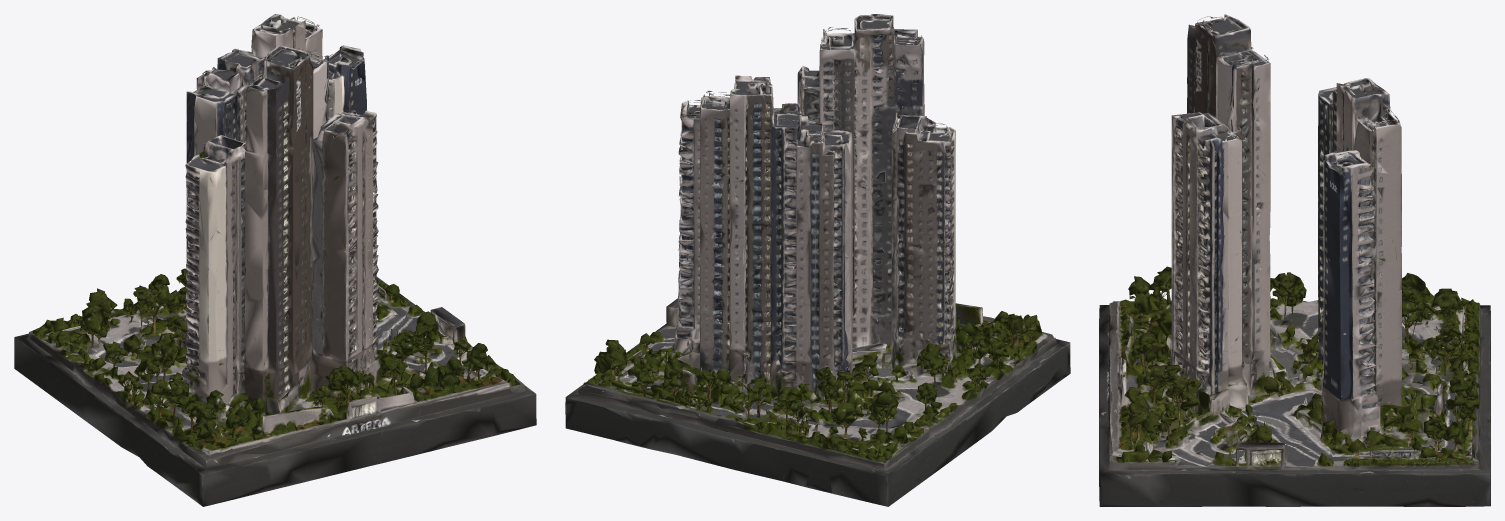
File: outside-artera.glb
The picture shows the model from 3 angles, left to right: view 1: azimuth 30°, elevation 25°; view 2: azimuth 150°, elevation 25°; view 3: azimuth 270°, elevation 25°; orthographic projection. The views are drawn at different scales.
Bounding box in the file's own units: 1.78 × 1.9 × 1.74.
1 material, 1 textured.
